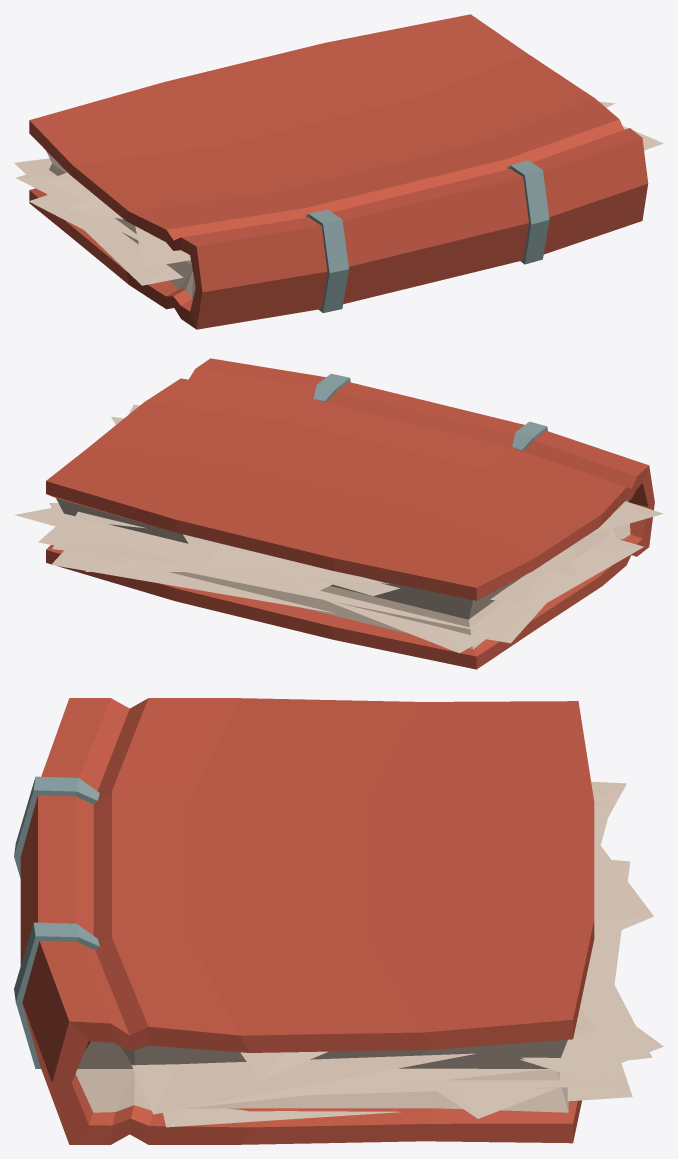
File: Book03_Closed.fbx
The picture shows the model from 3 angles, top to bottom: view 1: azimuth 30°, elevation 25°; view 2: azimuth 150°, elevation 25°; view 3: azimuth 270°, elevation 25°; orthographic projection. The views are drawn at different scales.
Visible parts, largest first — view 1: Book03_Closed; view 2: Book03_Closed; view 3: Book03_Closed.
Boxes of the visible parts, x1,y1,x2,y2 form: Book03_Closed: (14,14,663,329); Book03_Closed: (15,358,663,669); Book03_Closed: (14,698,663,1144).
Bounding box in the file's own units: 1.13 × 0.1831 × 0.8107.
